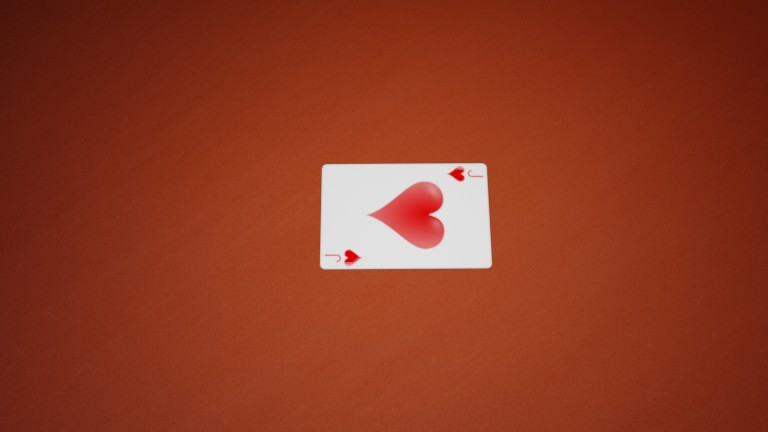jack_of_hearts: (323, 248, 363, 268), (446, 165, 485, 184)
